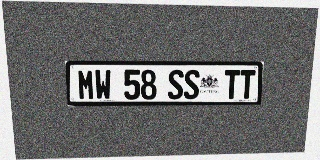5: (124, 70, 140, 100)
8: (141, 70, 156, 100)
M: (77, 69, 95, 100)
S: (168, 70, 184, 99), (184, 70, 200, 99)
T: (239, 70, 256, 99), (224, 70, 240, 99)
W: (94, 70, 112, 100)
